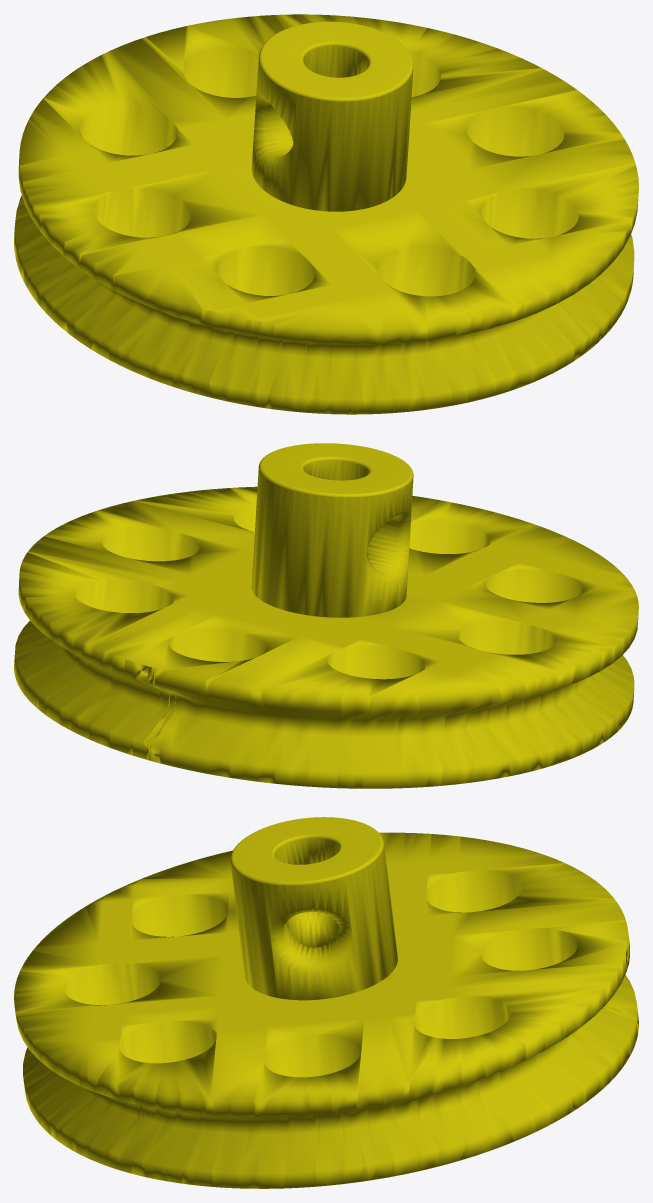
The model's file is Pulley_M.glb.
3 renders of one model, top to bottom at view 1: azimuth 30°, elevation 25°; view 2: azimuth 150°, elevation 25°; view 3: azimuth 270°, elevation 25°, orthographic.
Visible parts, largest first — view 1: defaultobject; view 2: defaultobject; view 3: defaultobject.
Boxes of the visible parts, box(x1,y1,x2,y2) form: defaultobject: box(14, 14, 638, 414); defaultobject: box(14, 443, 638, 788); defaultobject: box(14, 817, 638, 1188).
Bounding box in the file's own units: 94.61 × 41.06 × 95.68.
